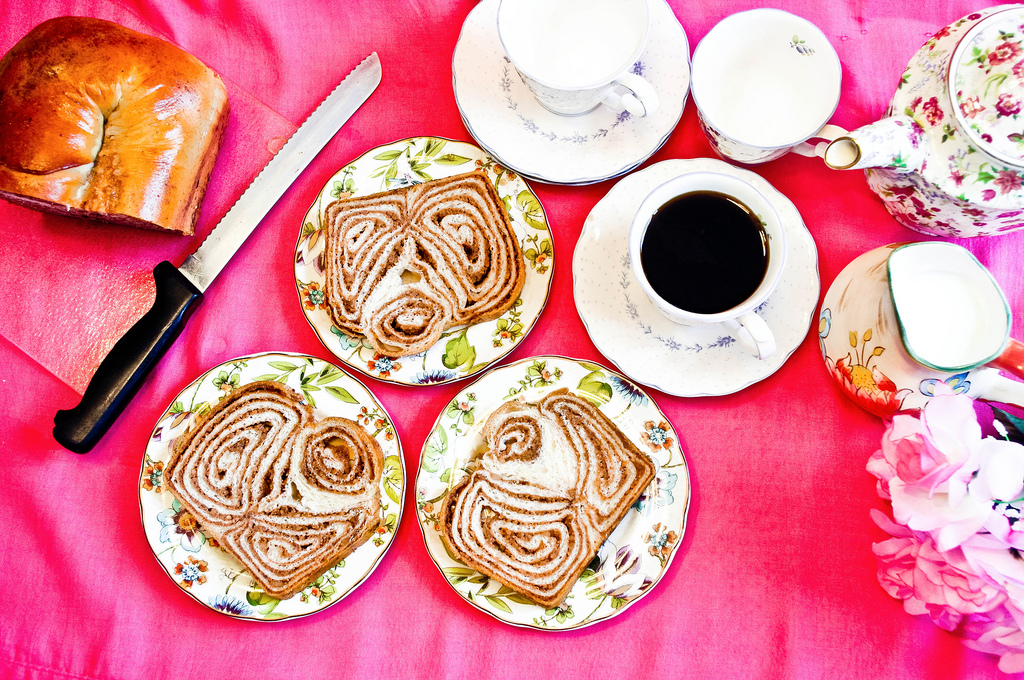slice of bread: (163, 387, 384, 593), (449, 387, 648, 608), (321, 182, 525, 350)
